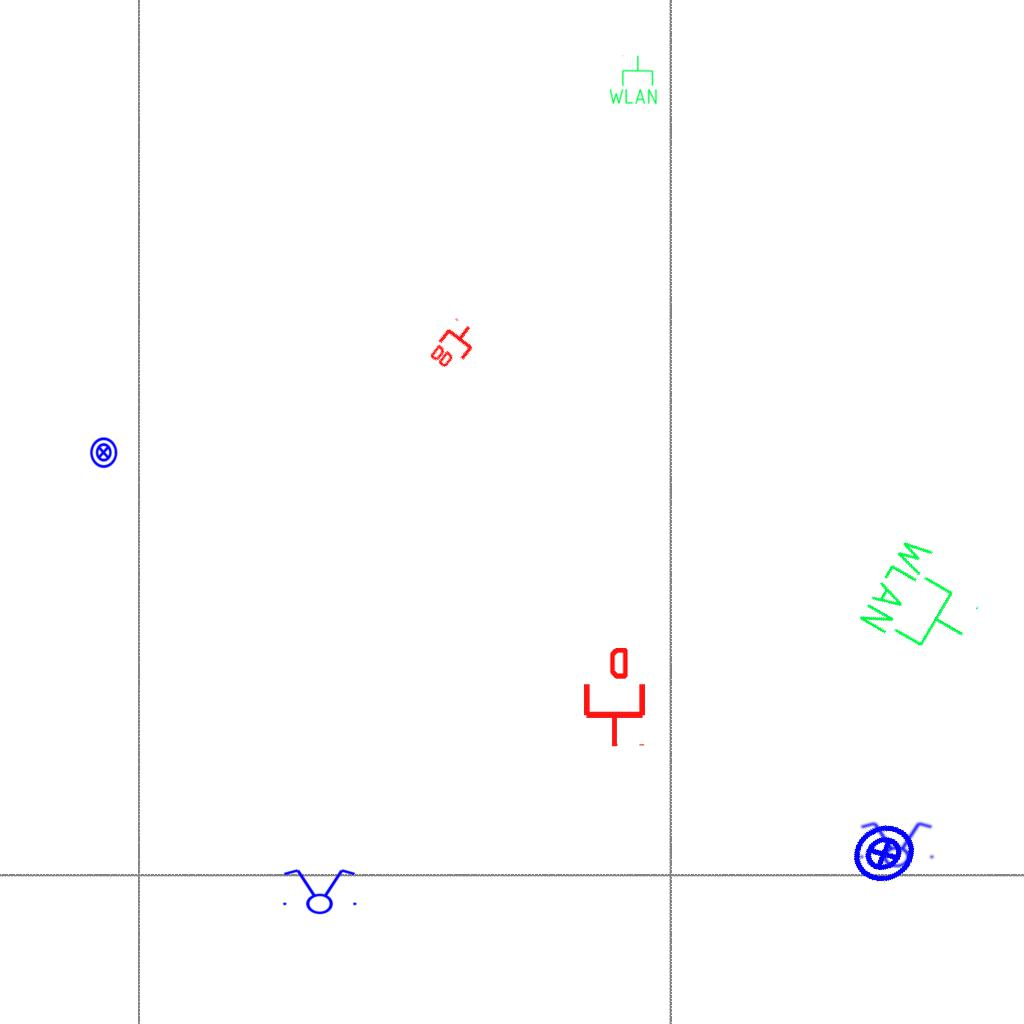Datenanschluss_einfach: (580, 648, 649, 748)
Datenanschluss_zweifach: (426, 315, 484, 378)
Serienschalter: (277, 867, 361, 915), (854, 820, 938, 868)
Taster_beleuchtet: (839, 809, 929, 899), (87, 436, 120, 469)
WLAN: (853, 530, 997, 673), (607, 54, 659, 106)
